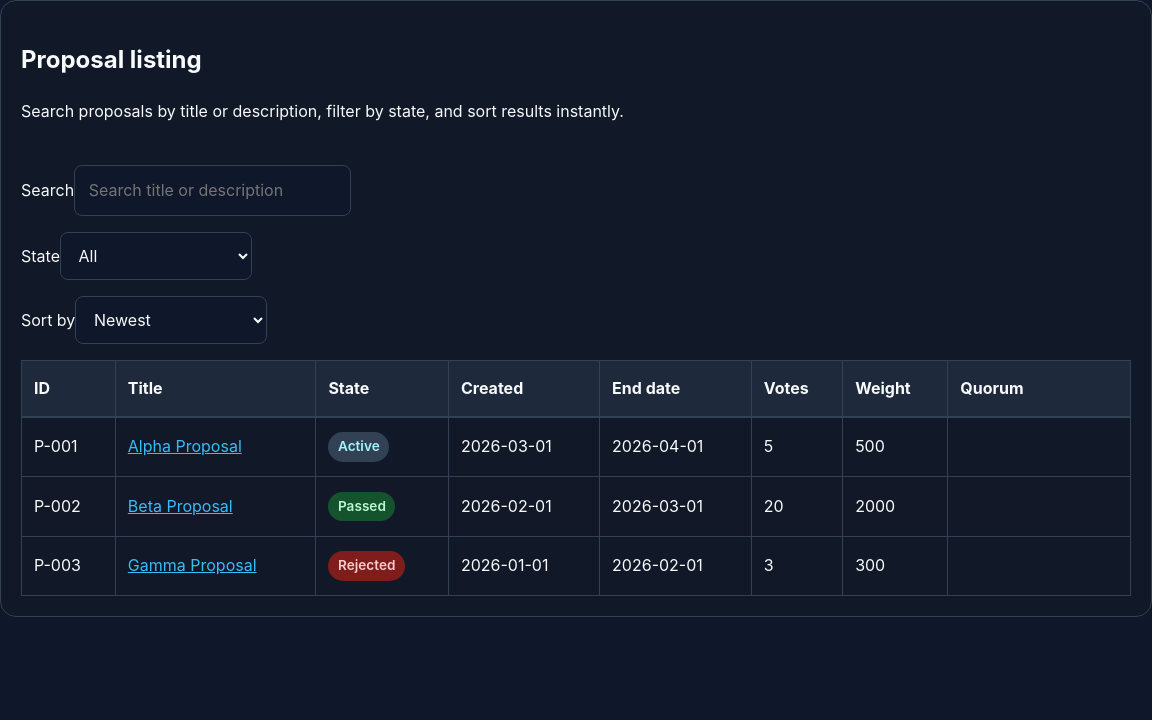
ProposalList › clears search and shows all proposals again
Type "alpha" into the search field named "search proposals" at coordinates (213, 191), box left=74, top=165, right=351, bottom=216
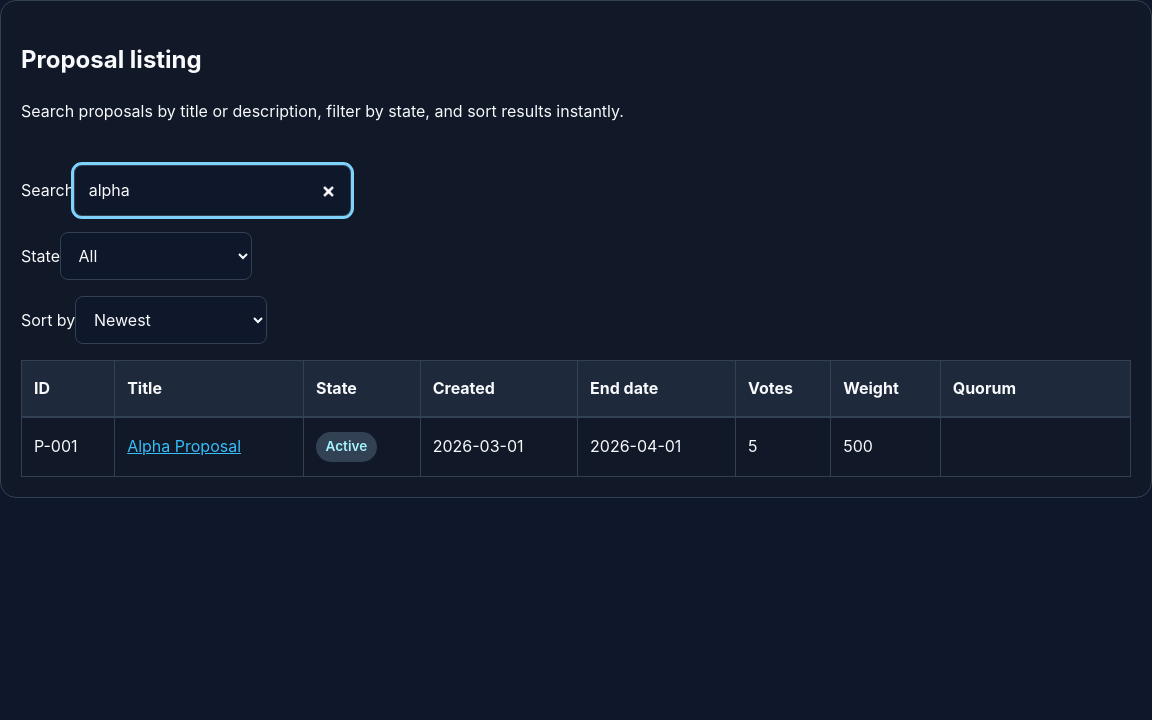
Clear the search field named "search proposals" at coordinates (213, 191), box left=74, top=165, right=351, bottom=216
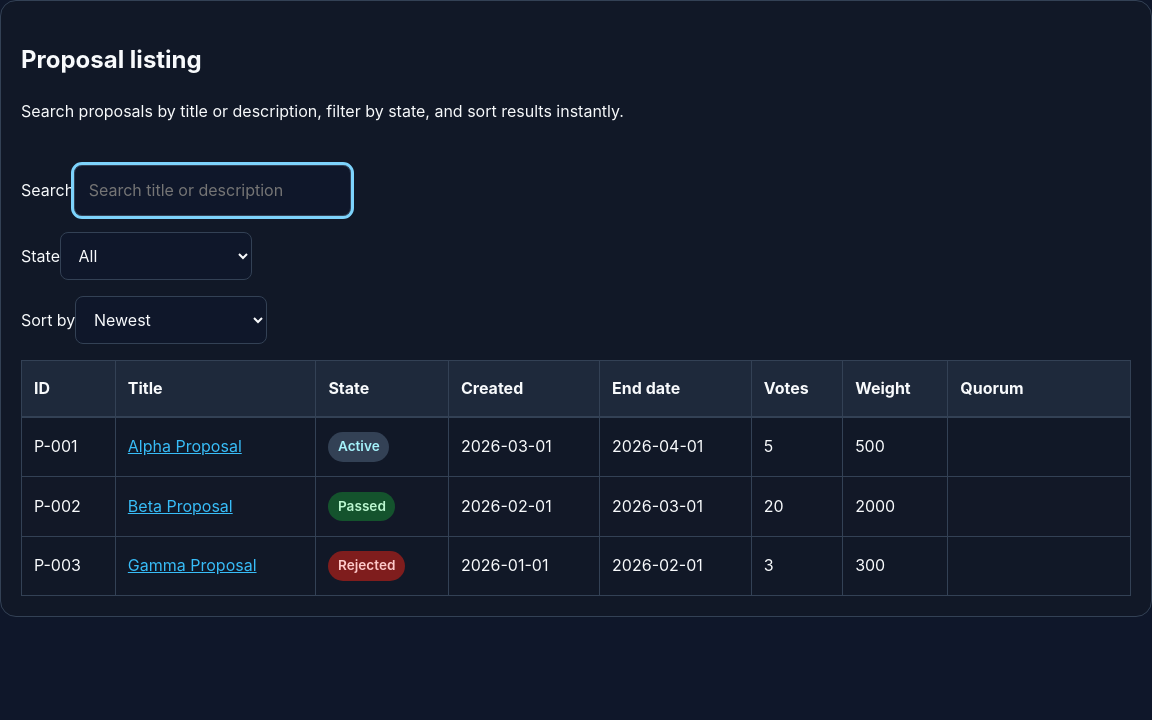
Expected: the link "Alpha Proposal" is shown, left=128, top=436, right=242, bottom=456
Expected: the link "Beta Proposal" is shown, left=128, top=496, right=233, bottom=516
Expected: the link "Gamma Proposal" is shown, left=128, top=555, right=256, bottom=575
